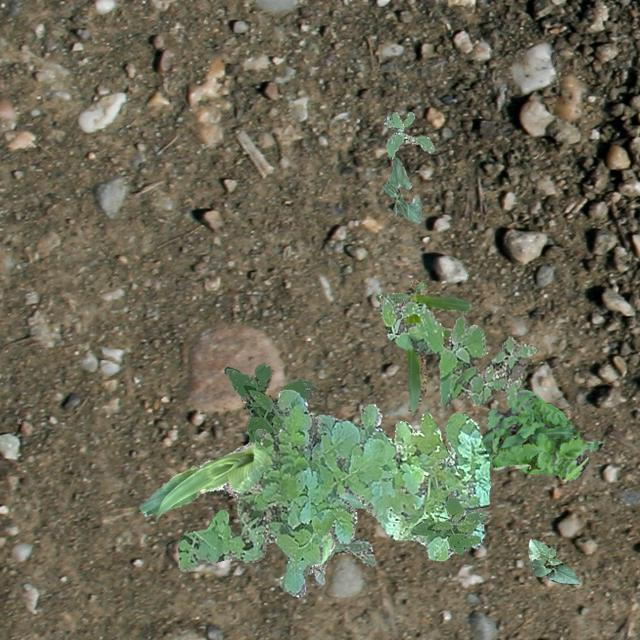crop: (139, 442, 365, 518), (374, 278, 468, 414), (380, 156, 420, 222), (528, 536, 578, 584), (314, 530, 334, 564)
weed: (176, 388, 490, 596), (378, 292, 536, 406), (480, 388, 602, 481), (224, 362, 318, 442), (410, 492, 488, 554), (312, 536, 376, 584), (382, 110, 434, 158)
